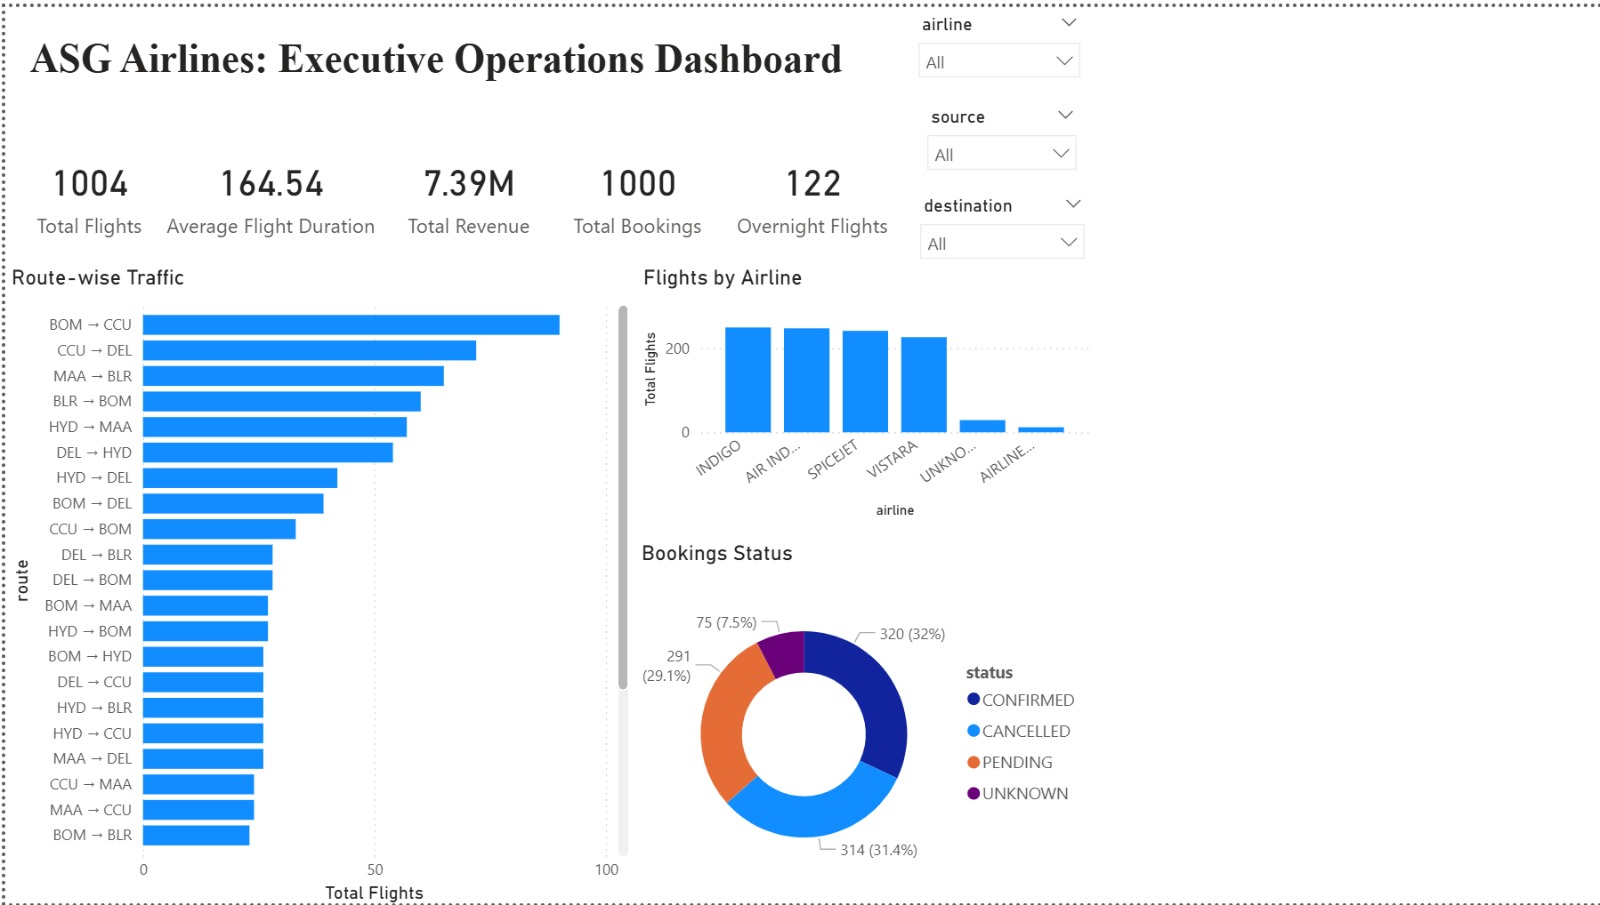

This screenshot's page, from the dashboard's own definition file:
{"tool":"powerbi","page":{"name":"Executive Overview","canvas":[1280,720],"ordinal":0},"visuals":[{"type":"card","fields":{"Values":["fact_bookings.Total Flights"]},"box":[0,92.5,135,115],"z":0},{"type":"card","fields":{"Values":["fact_bookings.Average Flight Duration"]},"box":[115,92.5,195,115],"z":1000},{"type":"card","fields":{"Values":["fact_bookings.Total Bookings"]},"box":[440,92.5,135,115],"z":2000},{"type":"card","fields":{"Values":["fact_bookings.Total Revenue"]},"box":[295,92.5,152.5,115],"z":3000},{"type":"card","fields":{"Values":["fact_bookings.Overnight Flights"]},"box":[572.5,92.5,150,115],"z":4000},{"type":"clusteredColumnChart","title":"Flights by Airline","fields":{"Category":["fact_flights.airline"],"Y":["fact_bookings.Total Flights"]},"box":[507.5,207.5,367.5,207.5],"z":5000},{"type":"clusteredBarChart","title":"Route-wise Traffic","fields":{"Category":["fact_flights.route"],"Y":["fact_bookings.Total Flights"]},"box":[0,207.5,505,517.5],"z":6000},{"type":"donutChart","title":"Bookings Status","fields":{"Category":["fact_bookings.status"],"Y":["fact_bookings.Total Bookings"]},"box":[506.2,428.8,367.5,292.5],"z":7000},{"type":"slicer","fields":{"Values":["fact_flights.airline"]},"box":[723.3,0,150,56.7],"z":8000},{"type":"slicer","fields":{"Values":["fact_flights.source"]},"box":[730,74,140,58],"z":9000},{"type":"slicer","fields":{"Values":["fact_flights.destination"]},"box":[724,146,152,62],"z":10000},{"type":"textbox","box":[0,0,725,92.5],"z":10001}]}

Visuals, with their boxes in screenshot pixels (x1, y1, x2, y2), scaled from the page's 1280x720 canvas onto the 1600x905 screenshot:
card - fact_bookings.Total Flights: locate(0, 116, 169, 261)
card - fact_bookings.Average Flight Duration: locate(144, 116, 388, 261)
card - fact_bookings.Total Bookings: locate(550, 116, 719, 261)
card - fact_bookings.Total Revenue: locate(369, 116, 559, 261)
card - fact_bookings.Overnight Flights: locate(716, 116, 903, 261)
"Flights by Airline" clusteredColumnChart: locate(634, 261, 1094, 522)
"Route-wise Traffic" clusteredBarChart: locate(0, 261, 631, 904)
"Bookings Status" donutChart: locate(633, 539, 1092, 904)
slicer - fact_flights.airline: locate(904, 0, 1092, 71)
slicer - fact_flights.source: locate(912, 93, 1088, 166)
slicer - fact_flights.destination: locate(905, 184, 1095, 261)
textbox: locate(0, 0, 906, 116)
